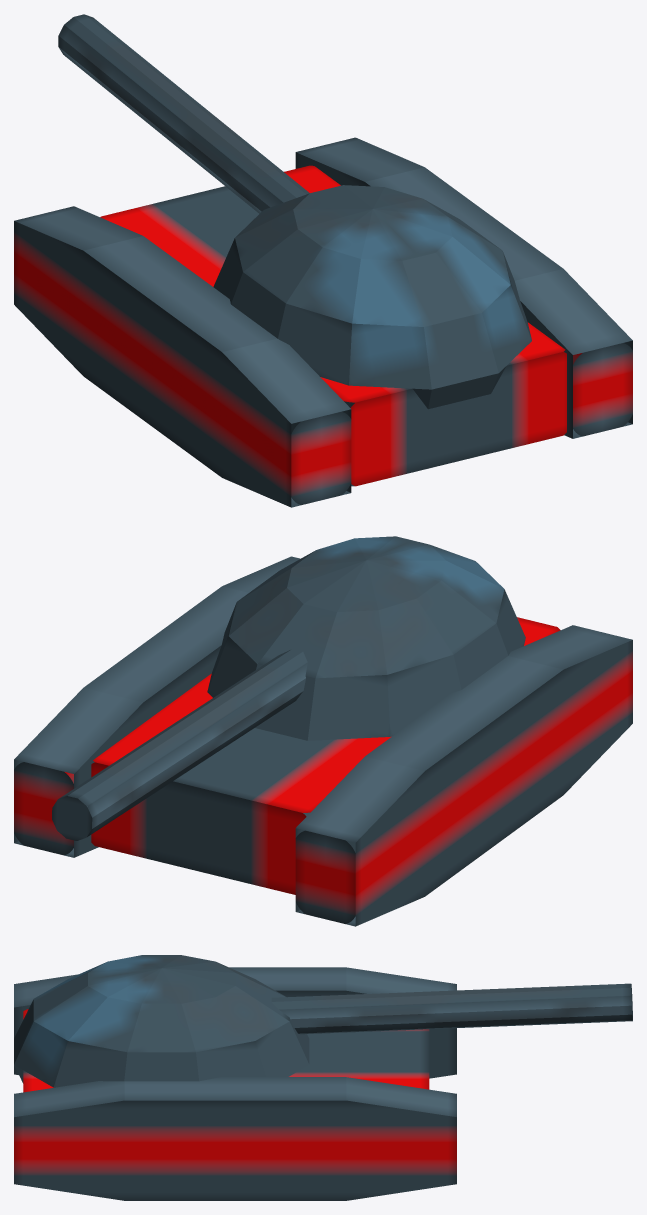
The model's file is tank.obj.
3 views of the same model, one above another, from view 1: azimuth 30°, elevation 25°; view 2: azimuth 150°, elevation 25°; view 3: azimuth 270°, elevation 25° (orthographic). The views are drawn at different scales.
Visible parts, largest first — view 1: mesh, sphere, cylinder; view 2: mesh, sphere, cylinder; view 3: mesh, sphere, cylinder.
Boxes of the visible parts, x1,y1,x2,y2 form: mesh: [14, 137, 632, 507]; sphere: [213, 185, 531, 409]; cylinder: [58, 14, 309, 213]; mesh: [14, 556, 632, 926]; sphere: [207, 536, 525, 740]; cylinder: [52, 649, 307, 840]; mesh: [14, 967, 456, 1200]; sphere: [14, 955, 309, 1087]; cylinder: [271, 983, 632, 1034].
Bounding box in the file's own units: 0.8531 × 0.5 × 1.68.
1 material, 1 textured.
